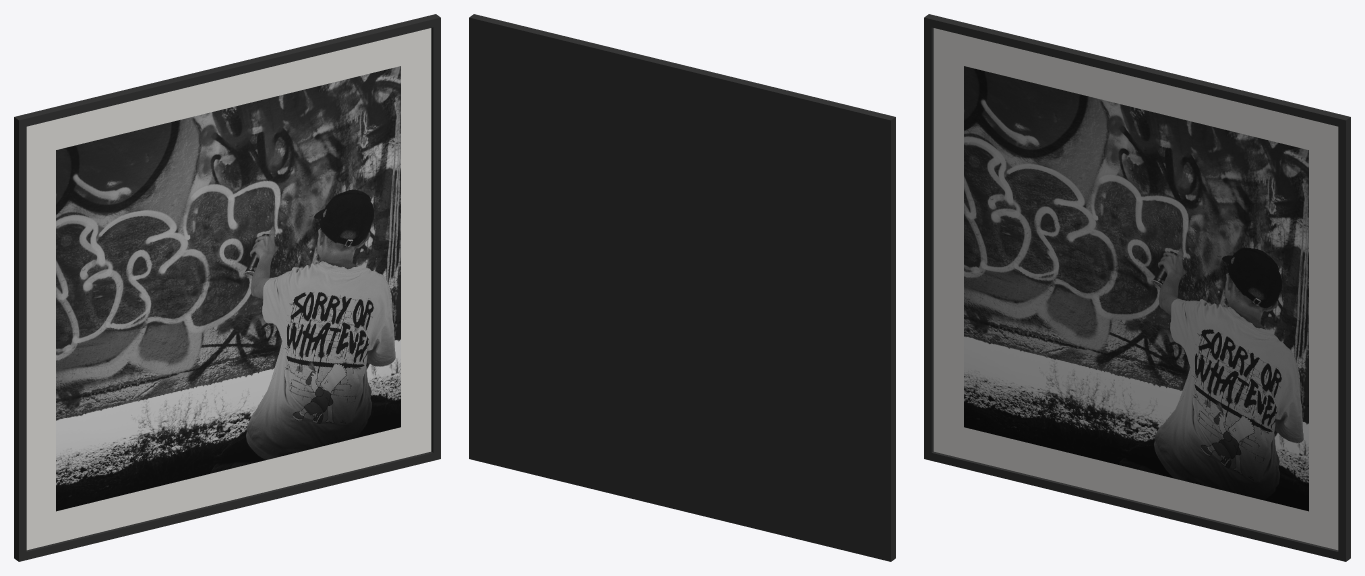
Rendered from taggen-90.gltf.
3 renders of one model, left to right at view 1: azimuth 30°, elevation 25°; view 2: azimuth 150°, elevation 25°; view 3: azimuth 330°, elevation 25°, orthographic.
Visible parts, largest first — view 1: tavla; view 2: tavla; view 3: tavla.
Part boxes in pixels (<box>): tavla: <box>14,14,440,561</box>; tavla: <box>469,14,895,561</box>; tavla: <box>924,14,1350,561</box>.
Size of the model in its own units: 1.1 by 1.1 by 0.022.
Materials: 3 (1 with a texture image).
